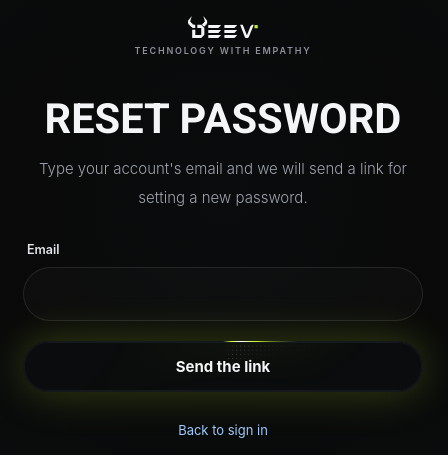
Scenario: asking for a reset link › says a link is on its way
In the field labelled "Email": {"x": 223, "y": 294} left=23, top=267, right=423, bottom=321, type "forgot@example.com"
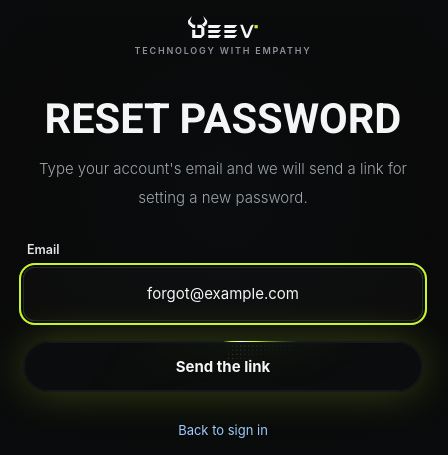
Click the button "Send the link": {"x": 223, "y": 366} left=23, top=341, right=423, bottom=392
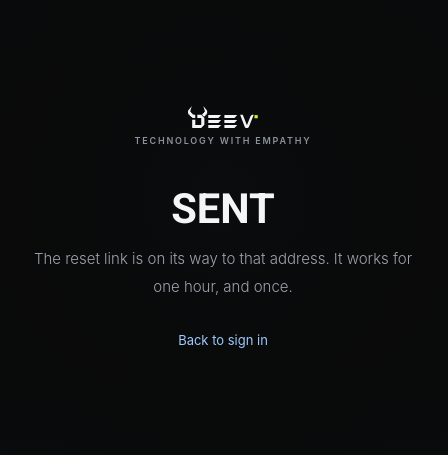
Check: the heading "SENT" is shown, box left=171, top=180, right=275, bottom=245
